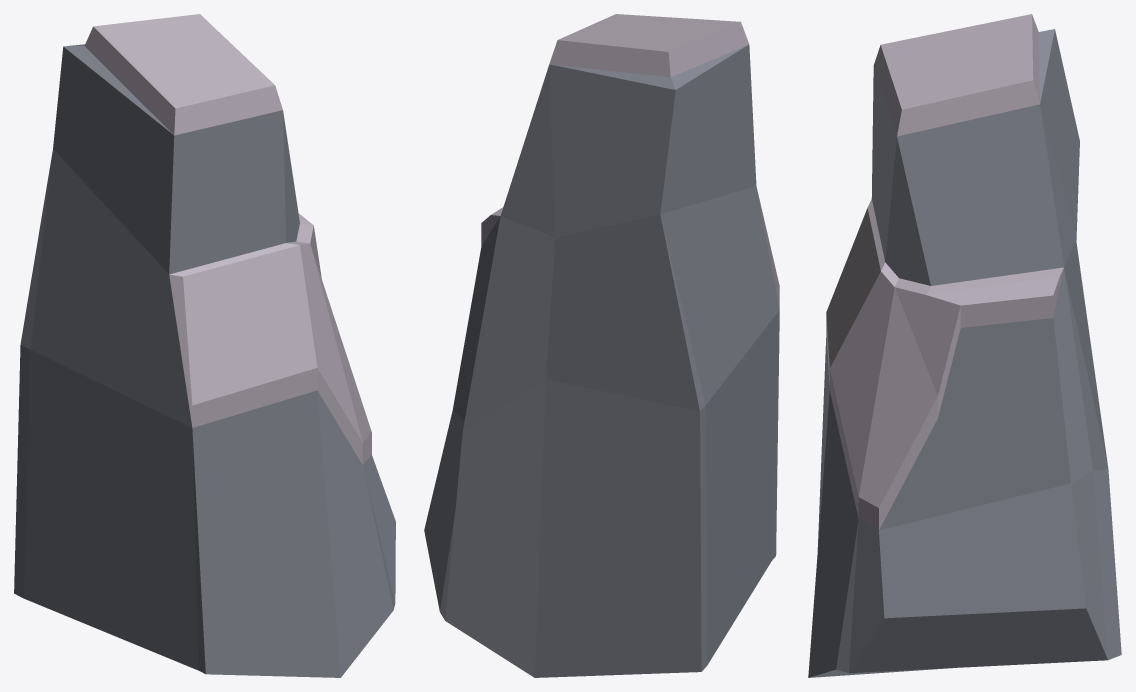
Rendered from rock_snow_1.glb.
The picture shows the model from 3 angles, left to right: view 1: azimuth 30°, elevation 25°; view 2: azimuth 150°, elevation 25°; view 3: azimuth 270°, elevation 25°; orthographic projection. The views are drawn at different scales.
Parts seen in each view (by area): view 1: rock_snow_1; view 2: rock_snow_1; view 3: rock_snow_1.
Part boxes in pixels (x1,y1,x2,y2): rock_snow_1: (14,14,395,677); rock_snow_1: (424,14,779,677); rock_snow_1: (808,14,1121,677).
Bounding box in the file's own units: 0.4853 × 0.9839 × 0.4667.
Materials: 1 (1 with a texture image).
